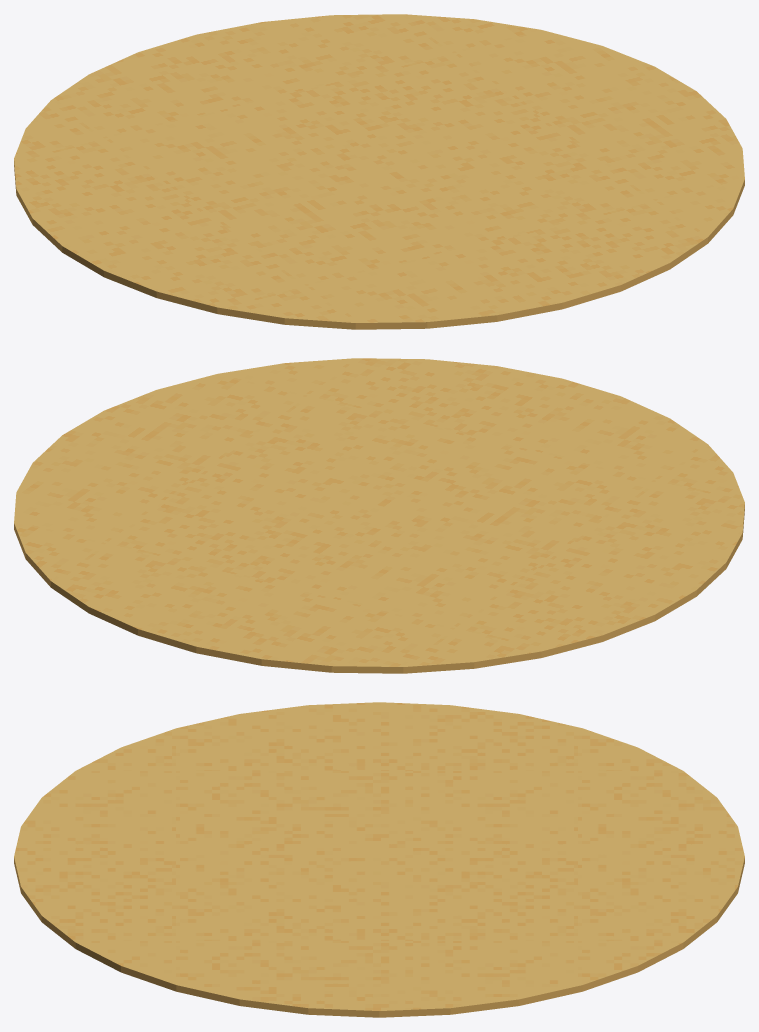
Rendered from GroundCircle.fbx.
3 renders of one model, top to bottom at view 1: azimuth 30°, elevation 25°; view 2: azimuth 150°, elevation 25°; view 3: azimuth 270°, elevation 25°, orthographic.
Visible parts, largest first — view 1: GroundCircle; view 2: GroundCircle; view 3: GroundCircle.
Boxes of the visible parts, <box> form: GroundCircle: <box>14,14,744,329</box>; GroundCircle: <box>14,358,744,673</box>; GroundCircle: <box>14,702,744,1017</box>.
Size of the model in its own units: 4427 by 44.36 by 4427.
